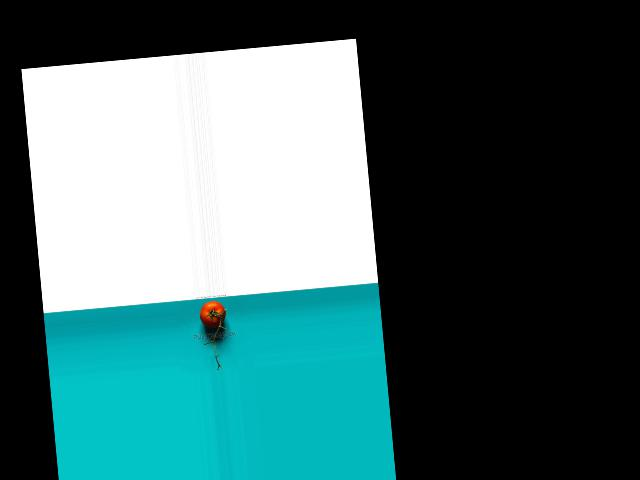tomato: (199, 300, 227, 328)
